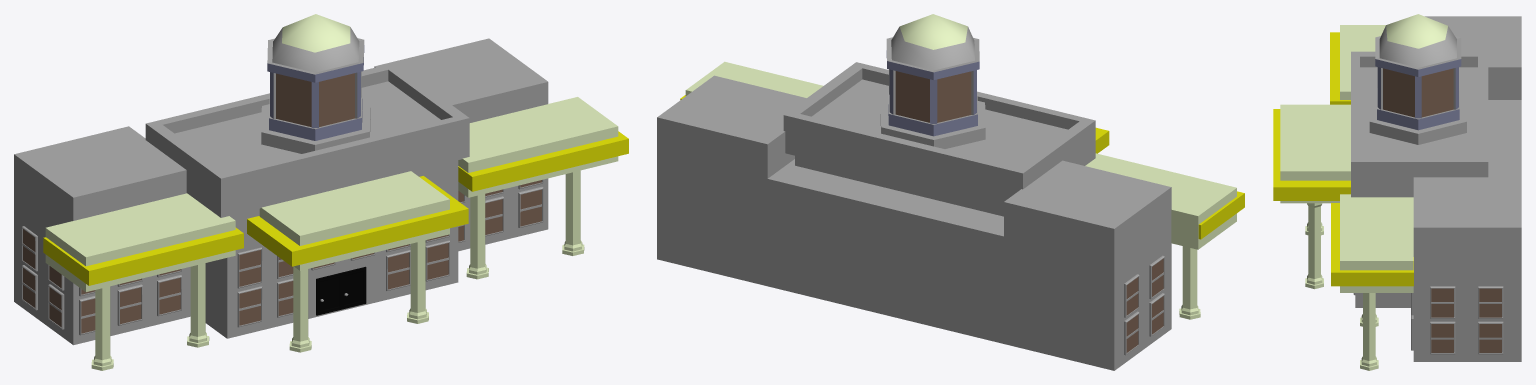
File: CourtHouse.fbx
3 views of the same model, side by side, from view 1: azimuth 30°, elevation 25°; view 2: azimuth 150°, elevation 25°; view 3: azimuth 270°, elevation 25° (orthographic). The views are drawn at different scales.
Visible parts, largest first — view 1: pCube202, pCylinder60, pCube204, pCube203, pCube205, pCube207, pCube206, pCube208, pCylinder64, pCylinder63, pCylinder58, pCylinder61 (+17 smaller); view 2: pCube202, pCylinder60, pCube204, pCube205, pCylinder61, pCube206, polySurface559, polySurface560, polySurface558, polySurface561; view 3: pCube202, pCylinder60, pCube205, pCube203, pCube207, pCube208, pCube204, pCylinder59, pCylinder64, polySurface562, polySurface565, polySurface563 (+2 smaller).
Part boxes in pixels (x1,y1,x2,y2): pCube202: (14, 38, 548, 345); pCylinder60: (261, 14, 370, 153); pCube204: (45, 193, 235, 291); pCube203: (259, 171, 449, 270); pCube205: (458, 97, 618, 197); pCube207: (247, 176, 468, 266); pCube206: (43, 227, 243, 285); pCube208: (458, 131, 628, 191); pCylinder64: (562, 170, 584, 255); pCylinder63: (466, 194, 488, 279); pCylinder58: (289, 266, 311, 352); pCylinder61: (91, 286, 113, 370); pCube202: (657, 62, 1171, 370); pCylinder60: (880, 14, 985, 148); pCube204: (1085, 153, 1236, 249); pCube205: (685, 61, 823, 97); pCylinder61: (1179, 246, 1200, 319); pCube206: (1198, 191, 1244, 239); polySurface559: (1149, 293, 1164, 336); polySurface560: (1124, 274, 1139, 317); polySurface558: (1149, 255, 1164, 299); polySurface561: (1124, 311, 1139, 355); pCube202: (1351, 16, 1521, 361); pCylinder60: (1369, 14, 1466, 144); pCube205: (1340, 194, 1413, 292); pCube203: (1280, 104, 1350, 203); pCube207: (1273, 109, 1350, 200); pCube208: (1331, 203, 1413, 286); pCube204: (1340, 25, 1385, 99); pCylinder59: (1305, 203, 1323, 289); pCylinder64: (1360, 293, 1378, 370); polySurface562: (1430, 321, 1455, 354); polySurface565: (1478, 321, 1503, 354); polySurface563: (1430, 286, 1455, 318).
Bounding box in the file's own units: 211 × 102 × 92.13.
